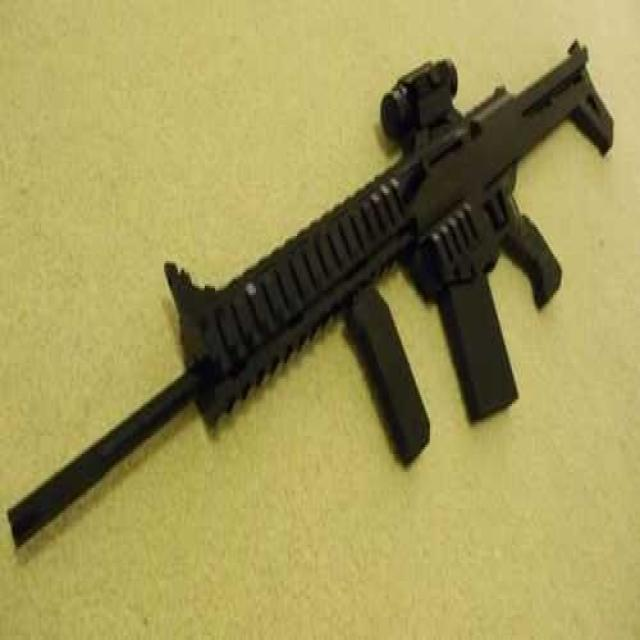RifleTel: (0, 27, 621, 554)
